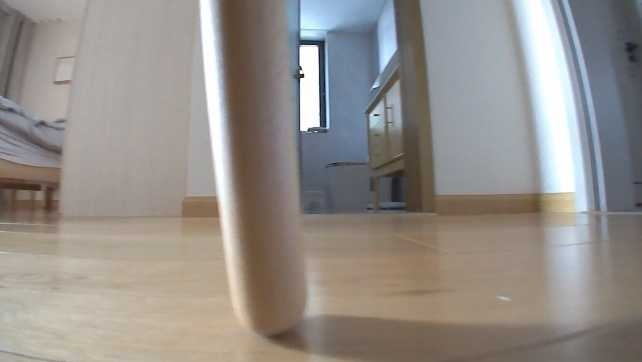bed1: (1, 95, 71, 210)
toilet: (324, 159, 368, 211)
washstand: (362, 63, 417, 211)
